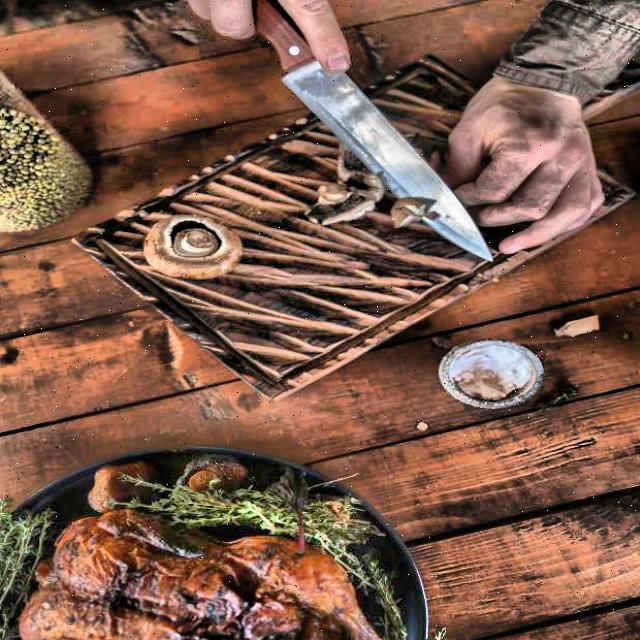knife: (229, 0, 502, 268)
